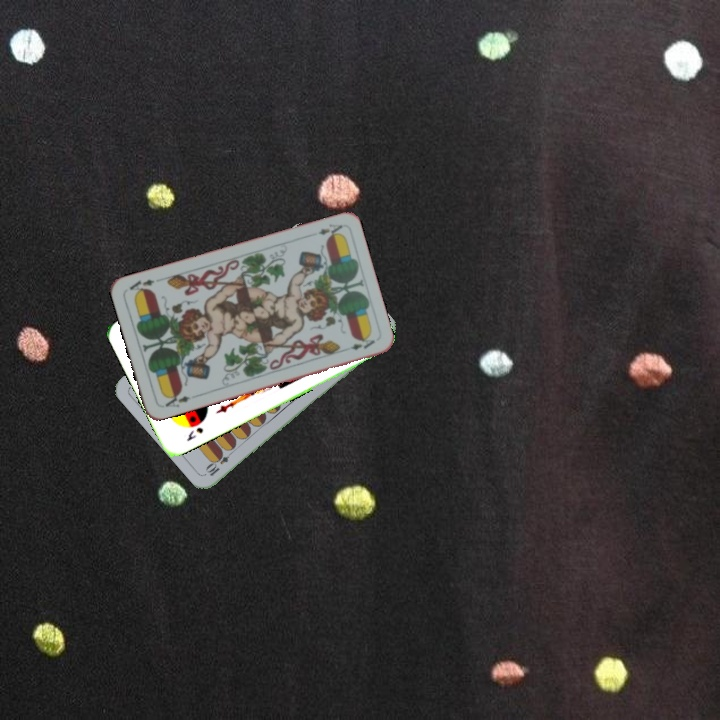E10: (202, 445, 237, 479)
EA: (305, 220, 345, 240), (160, 389, 198, 410)
SK: (182, 423, 206, 444)
